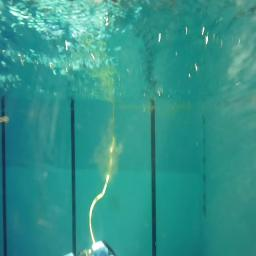front: (62, 239, 118, 256)
